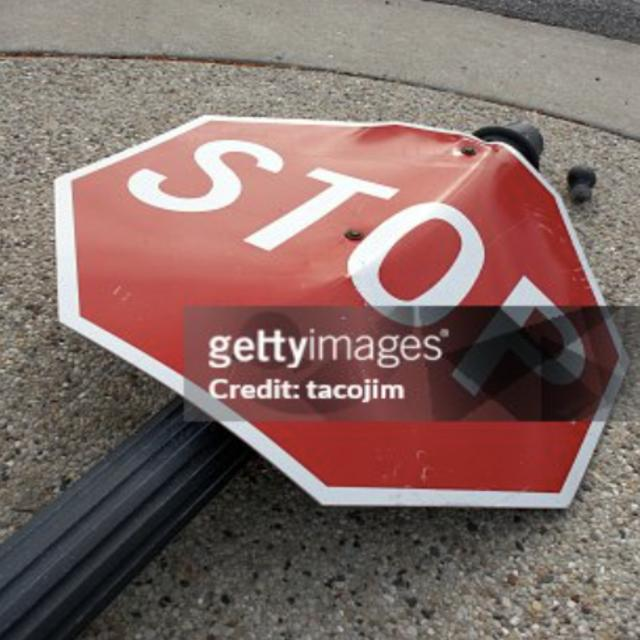Inclined Pole: (0, 113, 632, 640)
